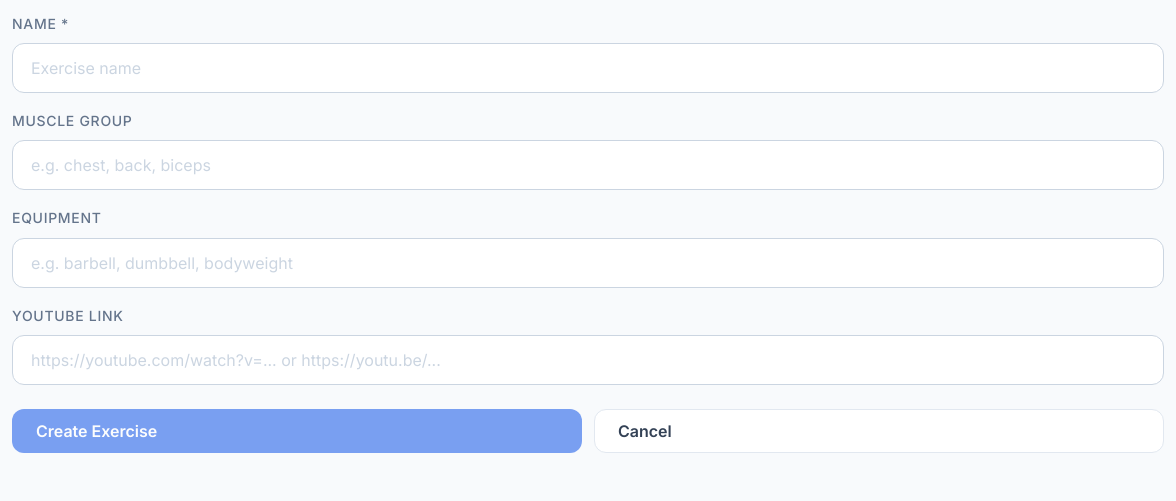
CustomExerciseForm › YouTube URL validation › shows error and disables submit button when YouTube URL is invalid
Type "Test" into the field with placeholder "Exercise name". click: (588, 68)
box: top-left (12, 43), bottom-right (1164, 93)
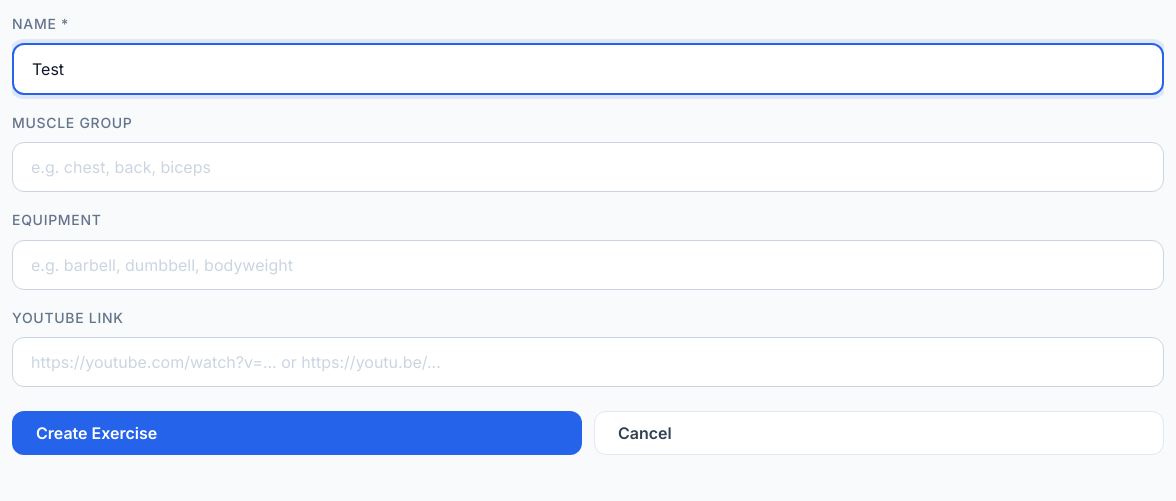
Type "https://invalid.com" into the field with placeholder "https://youtube.com/watch?v=... or https://youtu.be/...". click: (588, 362)
box: top-left (12, 337), bottom-right (1164, 387)
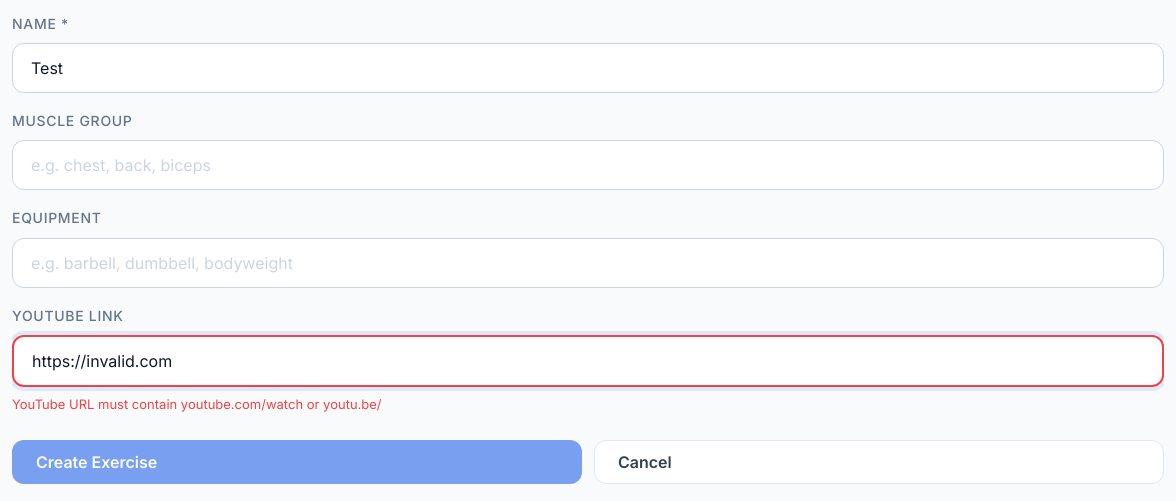
Expected: the button "Create Exercise" is disabled, top-left (12, 440), bottom-right (582, 484)
Expected: the text "YouTube URL must contain youtube.com/watch or youtu.be/" is shown, top-left (12, 396), bottom-right (382, 412)
